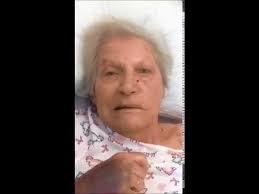normalMouth: (105, 100, 152, 115)
strokeEyeWeak: (95, 64, 157, 80)
